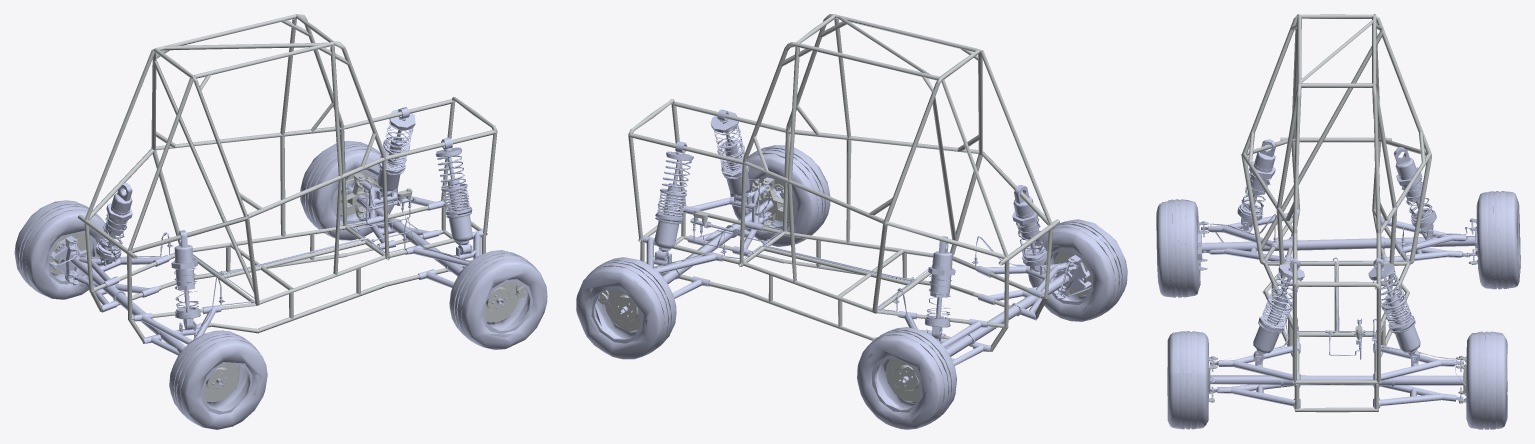
Rendered from vehicle.glb.
3 renders of one model, left to right at view 1: azimuth 30°, elevation 25°; view 2: azimuth 150°, elevation 25°; view 3: azimuth 270°, elevation 25°, orthographic. The views are drawn at different scales.
Parts seen in each view (by area): view 1: suspension1, Assembly part 1; view 2: suspension1, Assembly part 1; view 3: suspension1, Assembly part 1.
Part boxes in pixels (x1,y1,x2,y2): suspension1: (14, 107, 547, 429); Assembly part 1: (49, 14, 525, 402); suspension1: (576, 109, 1127, 429); Assembly part 1: (598, 14, 1091, 402); suspension1: (1156, 139, 1520, 429); Assembly part 1: (1208, 14, 1466, 412).
Size of the model in its own units: 2.42 by 1.8 by 2.01.
